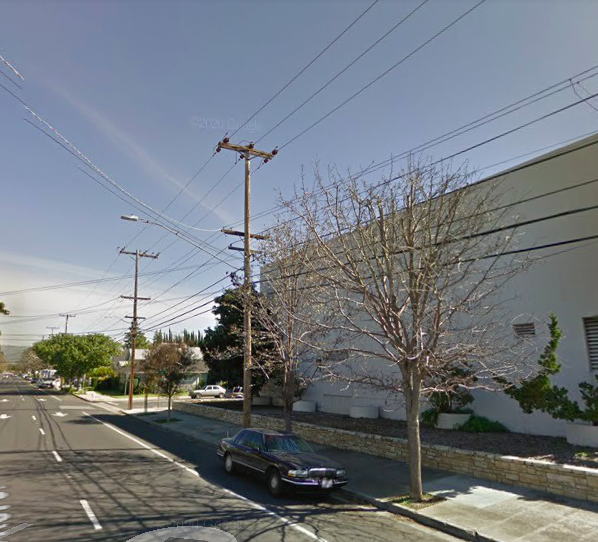utility_pole: (209, 127, 283, 180)
